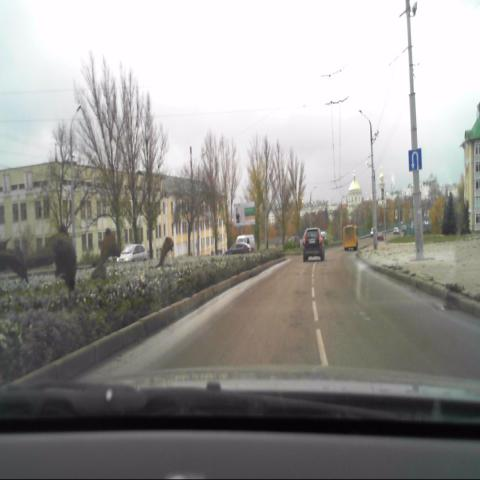6_3_1: (408, 148, 422, 171)
